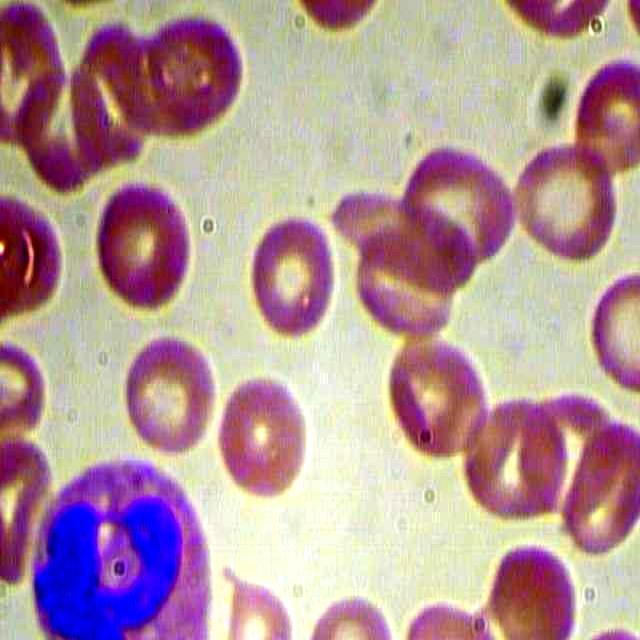RBC: (392, 135, 520, 285), (319, 181, 480, 299), (360, 331, 502, 464), (460, 381, 573, 523), (509, 130, 620, 274), (85, 178, 196, 322), (139, 4, 250, 148), (212, 366, 320, 506), (242, 209, 338, 347), (120, 325, 216, 463), (482, 530, 583, 640)
WBC: (27, 453, 217, 640)
